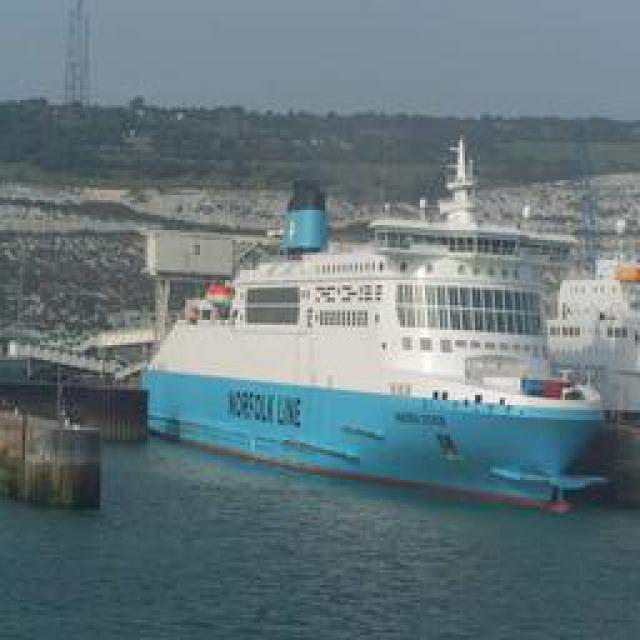Ship: (136, 166, 624, 511)
